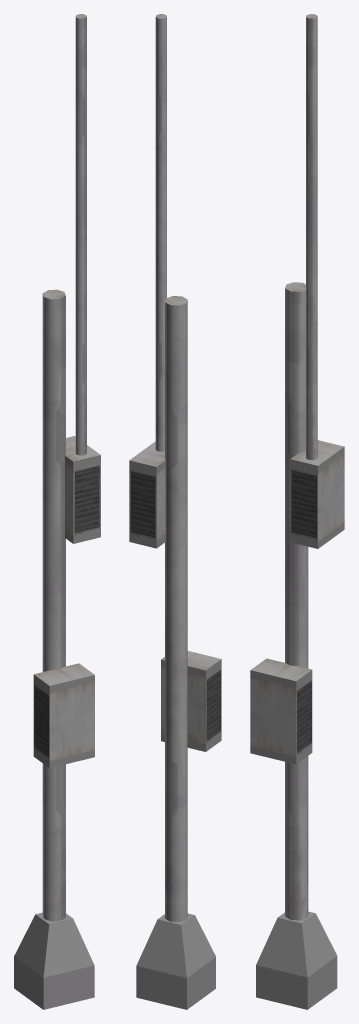
The model's file is SM_Antenna01.glb.
3 views of the same model, side by side, from view 1: azimuth 30°, elevation 25°; view 2: azimuth 150°, elevation 25°; view 3: azimuth 330°, elevation 25° (orthographic).
Visible parts, largest first — view 1: SM_Antenna01; view 2: SM_Antenna01; view 3: SM_Antenna01.
Boxes of the visible parts, x1,y1,x2,y2 form: SM_Antenna01: (14, 14, 100, 1009); SM_Antenna01: (129, 14, 221, 1009); SM_Antenna01: (250, 14, 344, 1009).
Bounding box in the file's own units: 0.4001 × 6.28 × 0.4115.
1 material, 1 textured.
